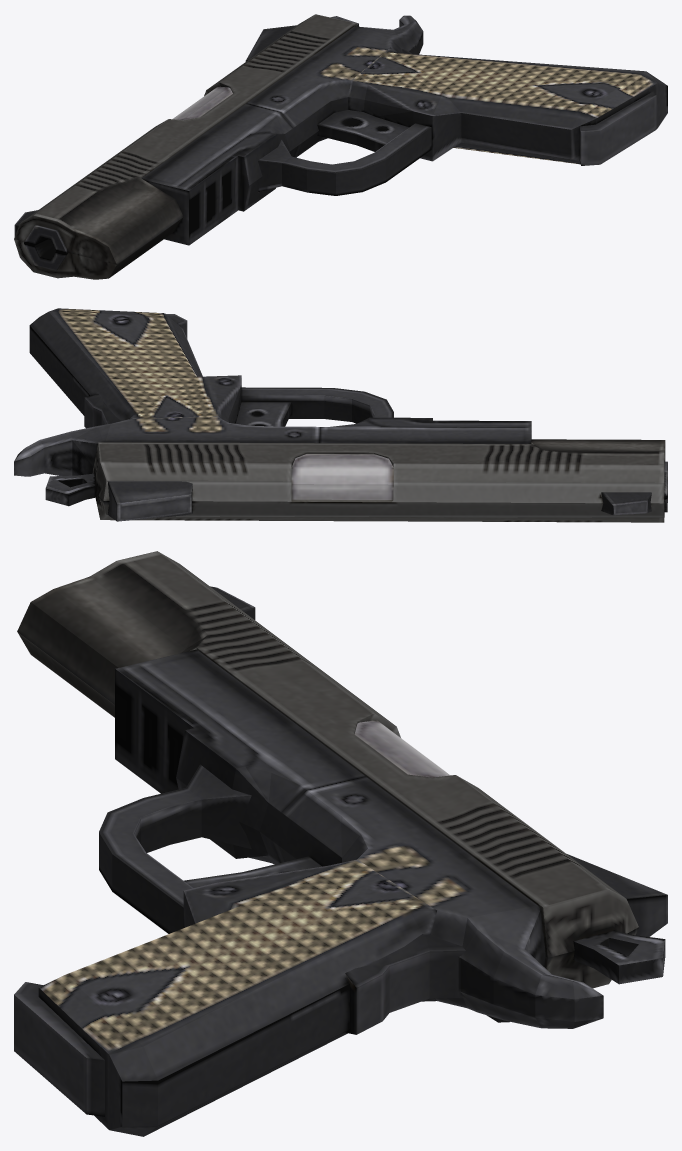
The model's file is MaLuBian_01_shouqiang_01.FBX.
3 views of the same model, one above another, from view 1: azimuth 30°, elevation 25°; view 2: azimuth 150°, elevation 25°; view 3: azimuth 270°, elevation 25° (orthographic). The views are drawn at different scales.
Parts seen in each view (by area): view 1: PenQuanGuangChang_shouqiang_01; view 2: PenQuanGuangChang_shouqiang_01; view 3: PenQuanGuangChang_shouqiang_01.
Boxes of the visible parts, x1,y1,x2,y2 form: PenQuanGuangChang_shouqiang_01: [14, 14, 667, 279]; PenQuanGuangChang_shouqiang_01: [14, 308, 667, 522]; PenQuanGuangChang_shouqiang_01: [14, 551, 667, 1136].
Size of the model in its own units: 263 by 24.74 by 142.
